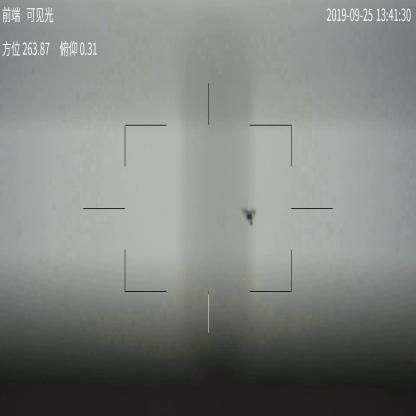uav: (240, 206, 258, 228)
